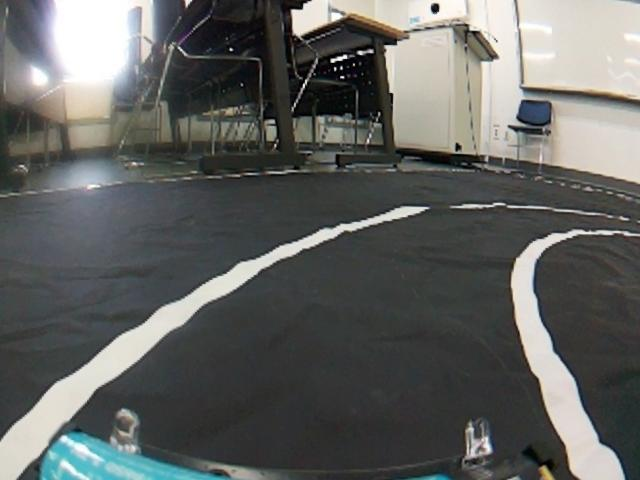right: (4, 193, 640, 479)
